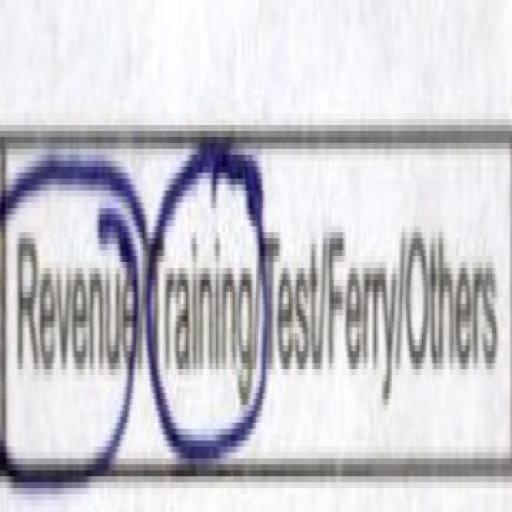check: (0, 53, 138, 512), (142, 41, 260, 512)
